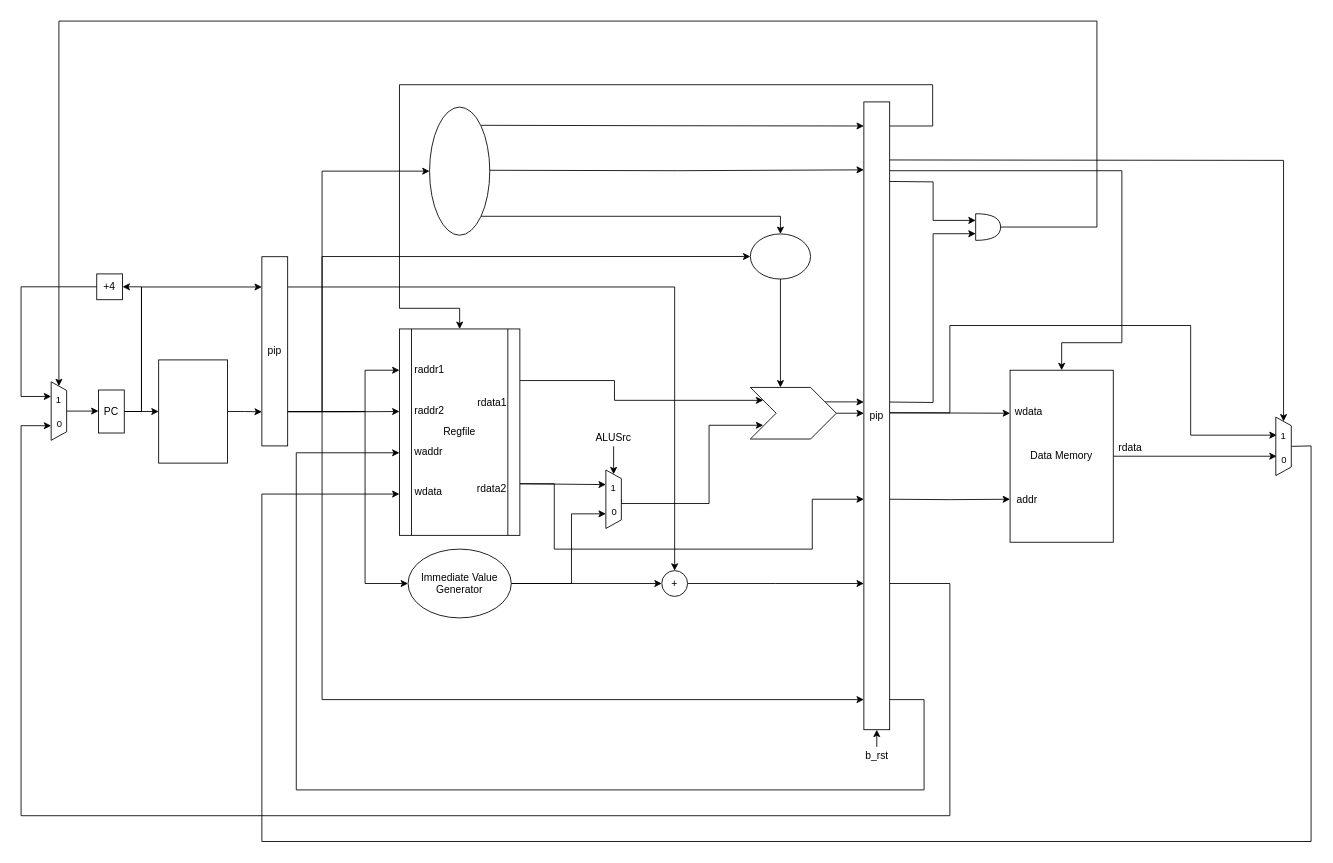
This 1333x863 diagram has some shape labels left out. The centre of each missing label's shape, as x and y in pixels:
ALU: (792,413)
ALU Control: (780,256)
Controller: (459,170)
Instruction Memory: (192,411)
